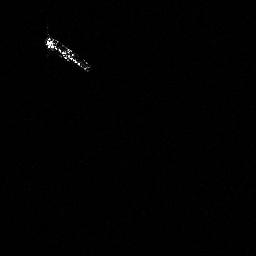ship: (44, 25, 95, 74)
